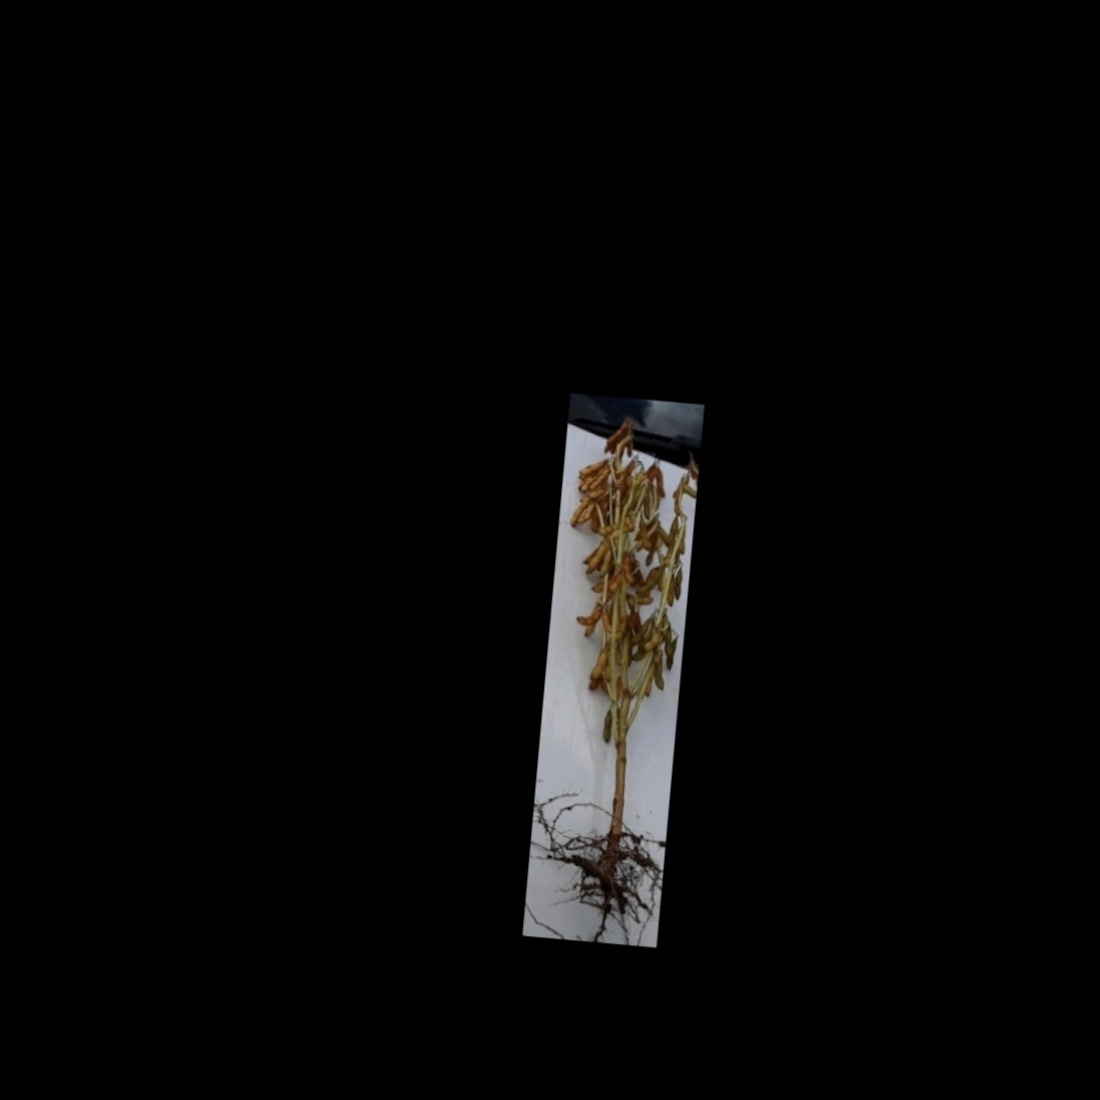pod: (631, 559, 668, 603), (581, 536, 606, 577), (590, 644, 612, 684), (572, 607, 604, 628), (568, 497, 586, 530), (576, 457, 608, 475), (599, 708, 613, 745)
soy: (528, 411, 700, 929)
